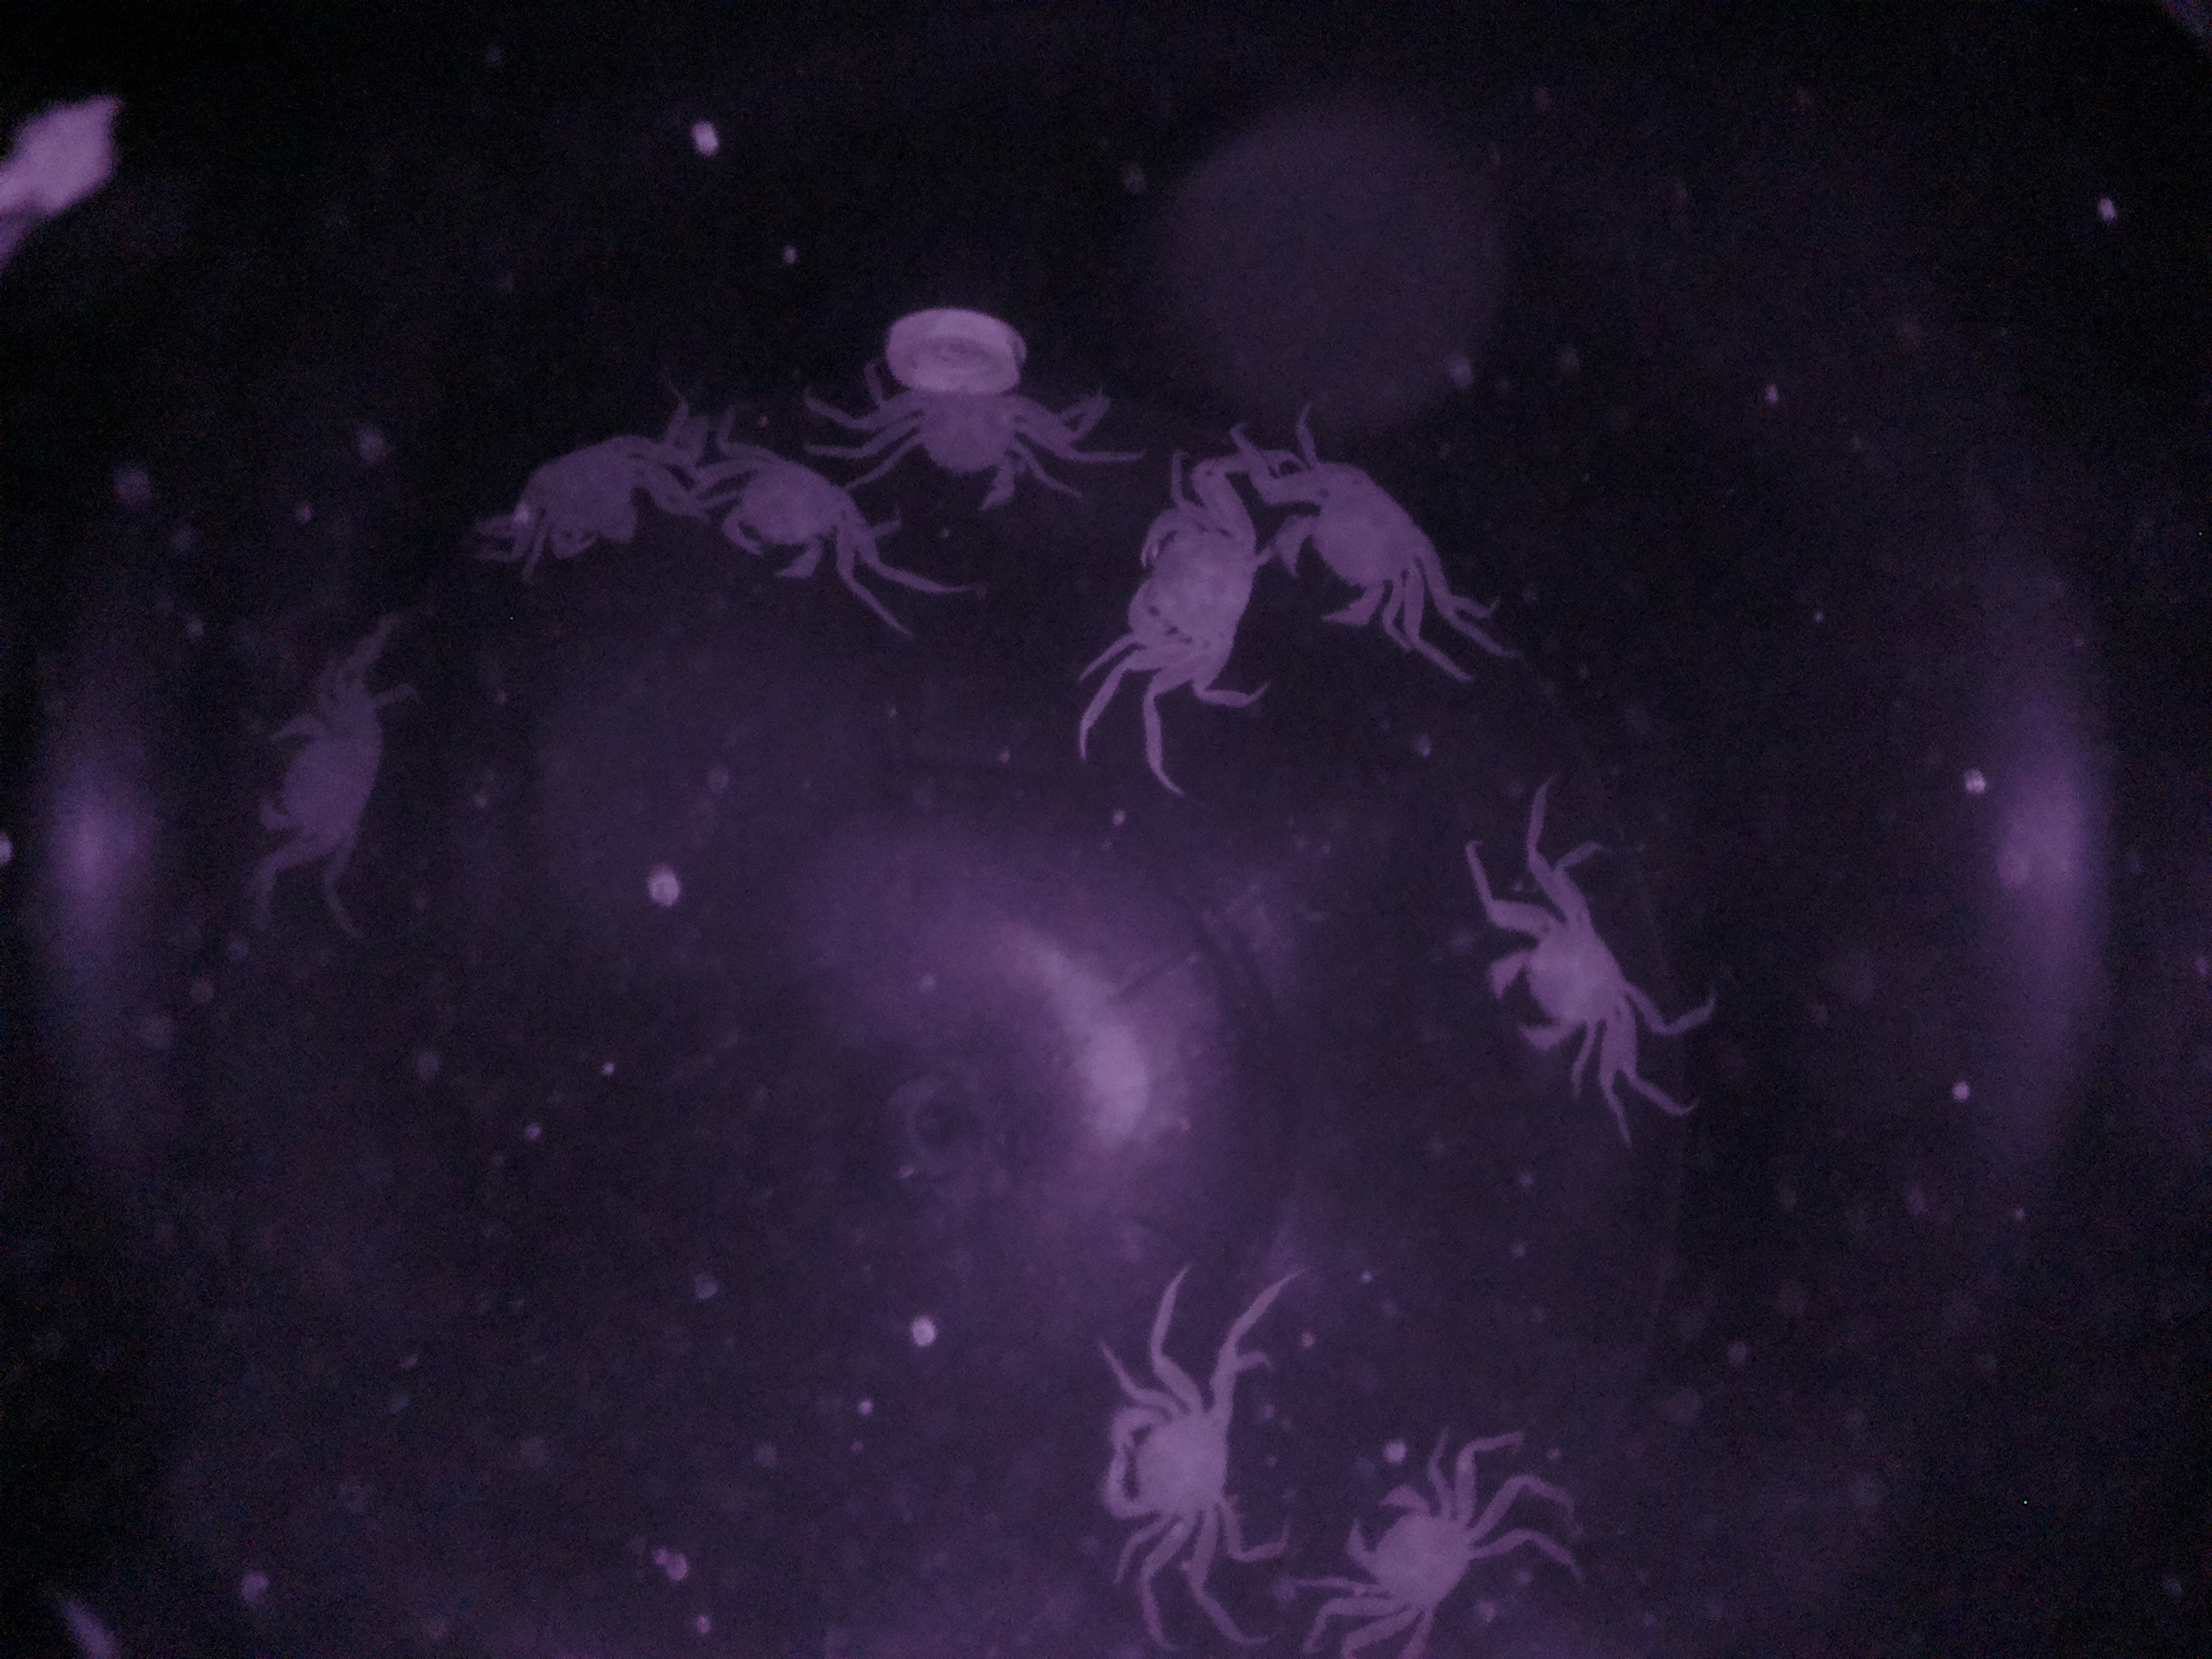Crab: (1085, 1317, 1256, 1598), (686, 420, 909, 622), (1470, 857, 1660, 1093), (1115, 476, 1277, 728), (1275, 432, 1458, 652), (496, 387, 688, 592), (1325, 1445, 1515, 1638)
